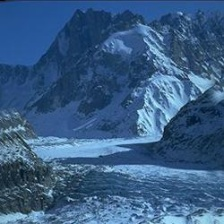neutral: (4, 6, 222, 222)
